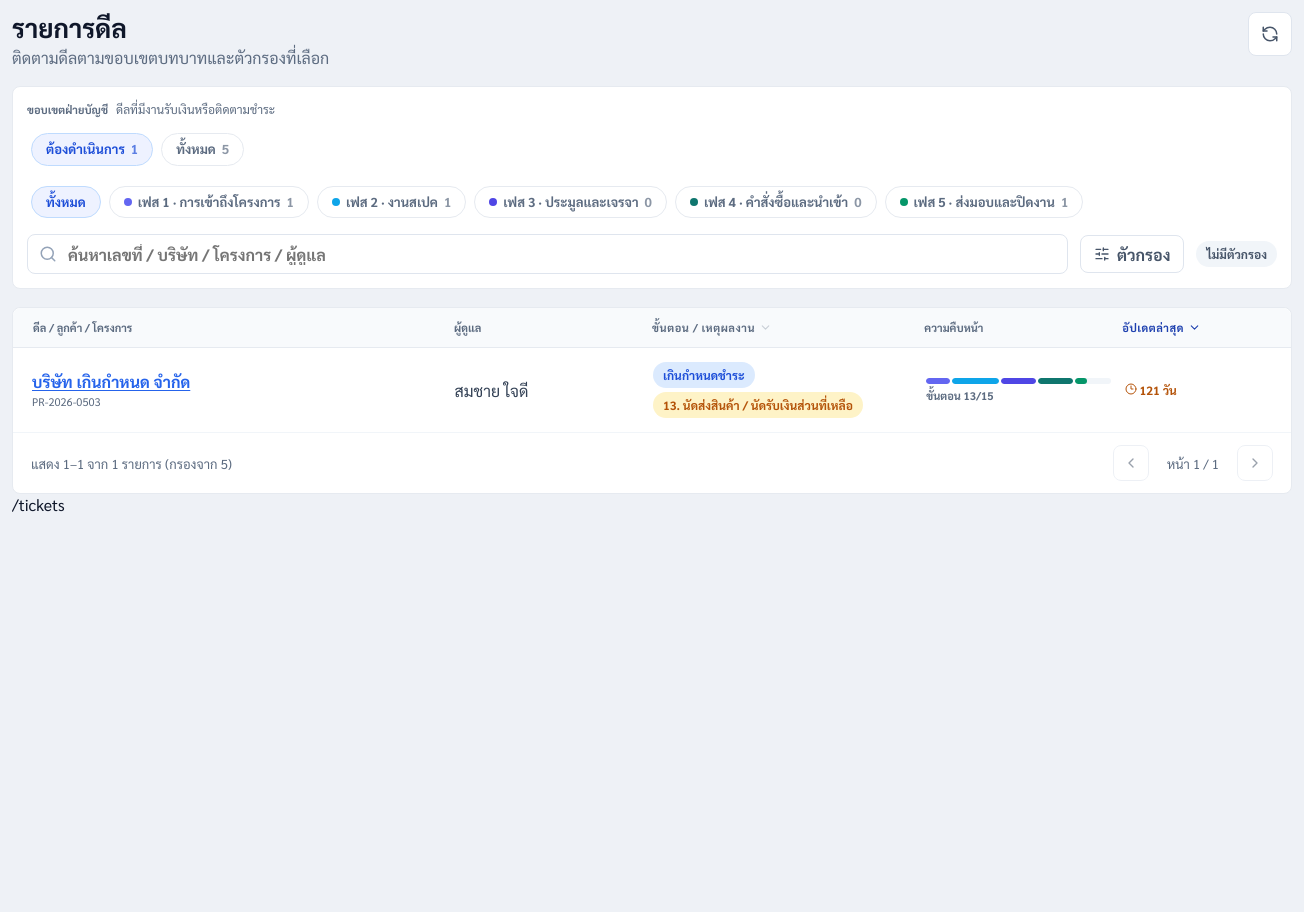
Test case: TicketListPage › preserves import/account worklist scope and hides create when not permitted
Check: the link "บริษัท เกินกำหนด จำกัด" is shown, box [32, 371, 190, 392]
Check: the text "บริษัท ทดสอบ จำกัด" is not shown
Click the button "ทั้งหมด 5".
click(203, 150)  # box [161, 133, 244, 166]
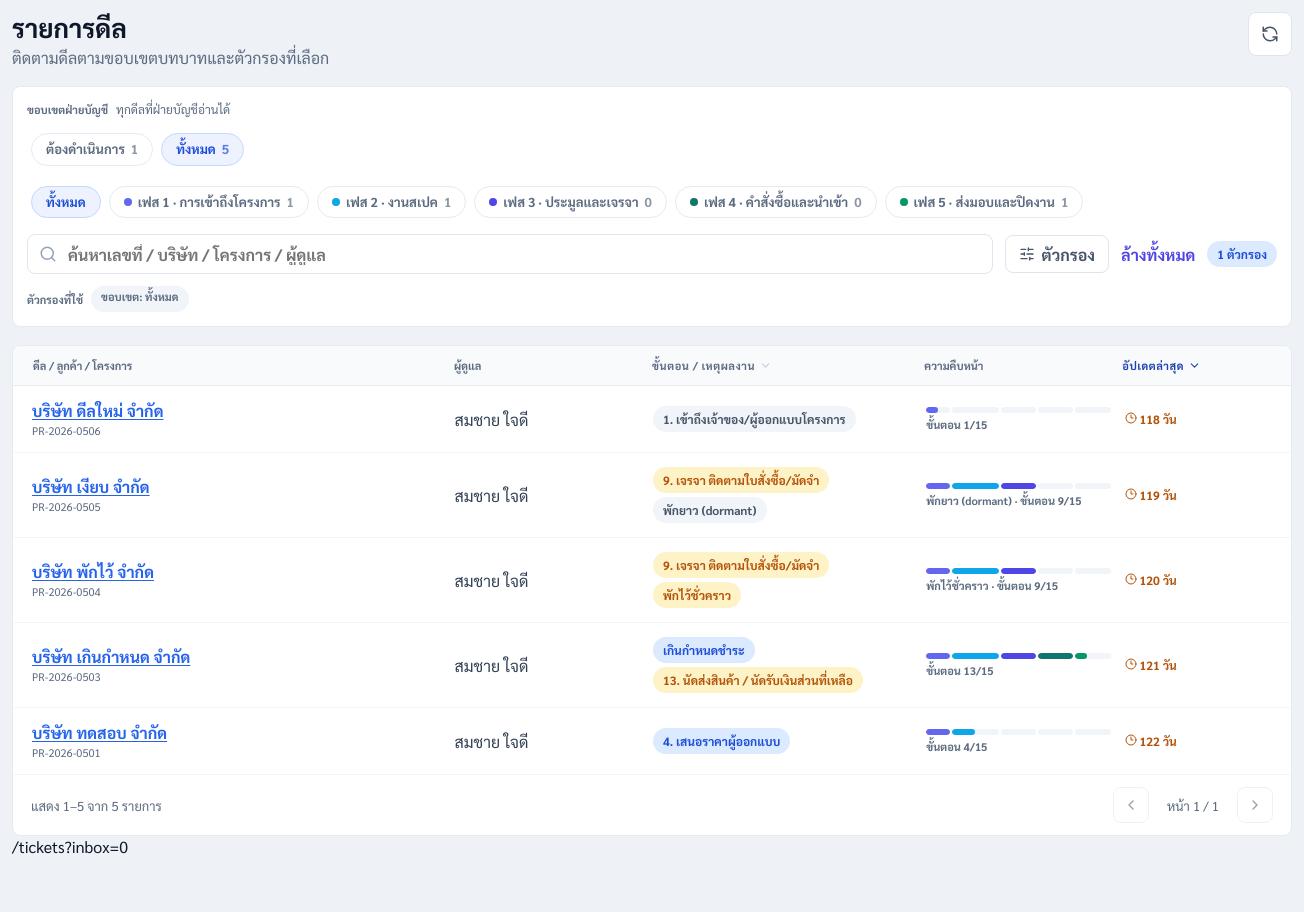
Check: the text with test id "location-display" shows "inbox=0", box [65, 836, 128, 857]
Check: the link "บริษัท ทดสอบ จำกัด" is shown, box [32, 722, 167, 743]
